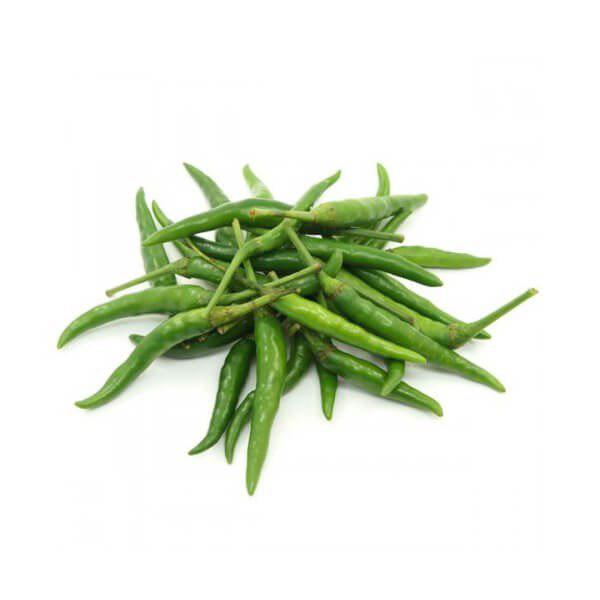lada hijau: (73, 296, 246, 429), (333, 279, 516, 403), (272, 286, 435, 372), (46, 274, 234, 346), (282, 227, 446, 291), (322, 347, 450, 429), (192, 317, 255, 475), (240, 298, 288, 504), (150, 192, 303, 247), (300, 184, 445, 234), (123, 184, 176, 307), (313, 356, 351, 441)
